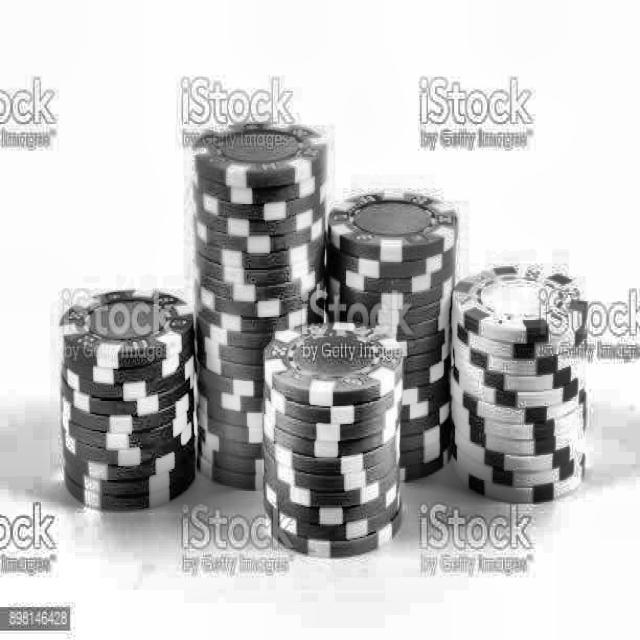Chip: (186, 114, 330, 509), (320, 170, 460, 485), (245, 319, 419, 567), (445, 259, 610, 510), (48, 290, 203, 517)
